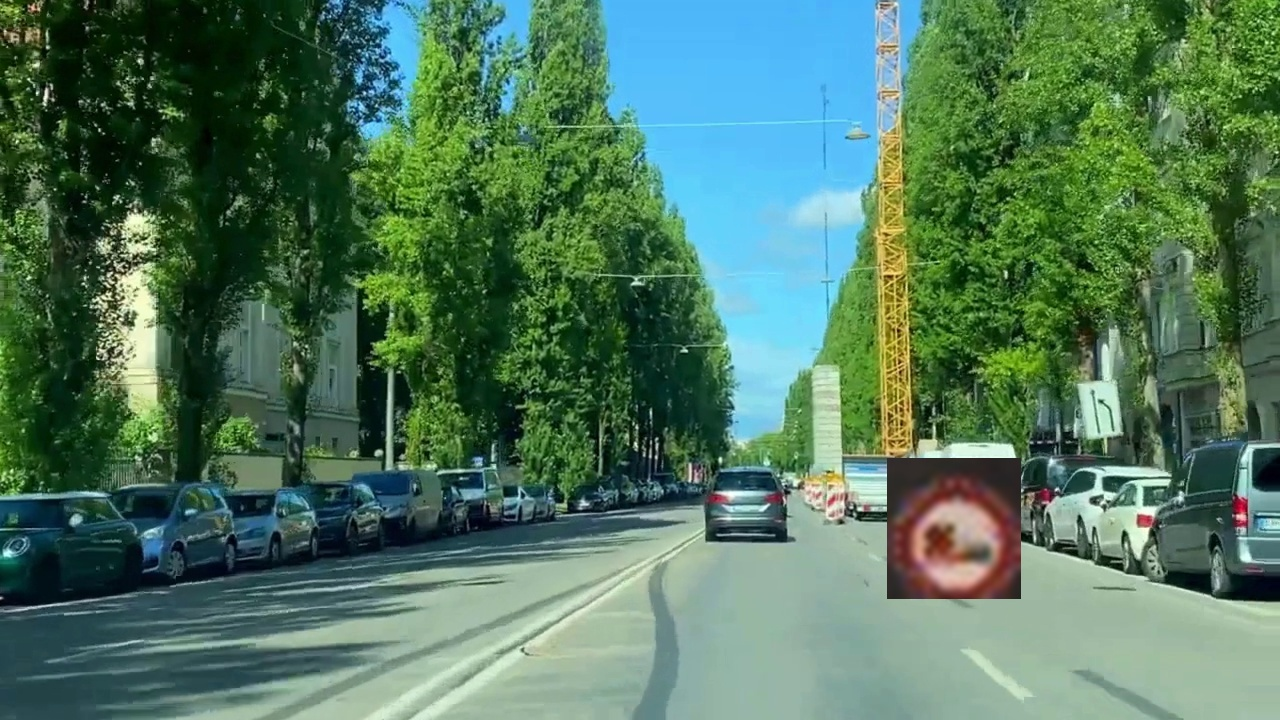No pass >3.5t: (887, 458, 1021, 599)
